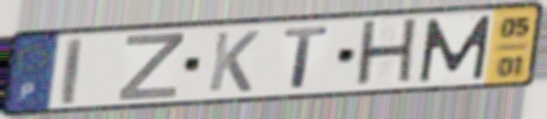H: (351, 15, 421, 91)
I: (60, 35, 86, 108)
K: (205, 29, 263, 94)
M: (417, 13, 495, 85)
T: (280, 24, 332, 90)
Z: (114, 31, 187, 103)
